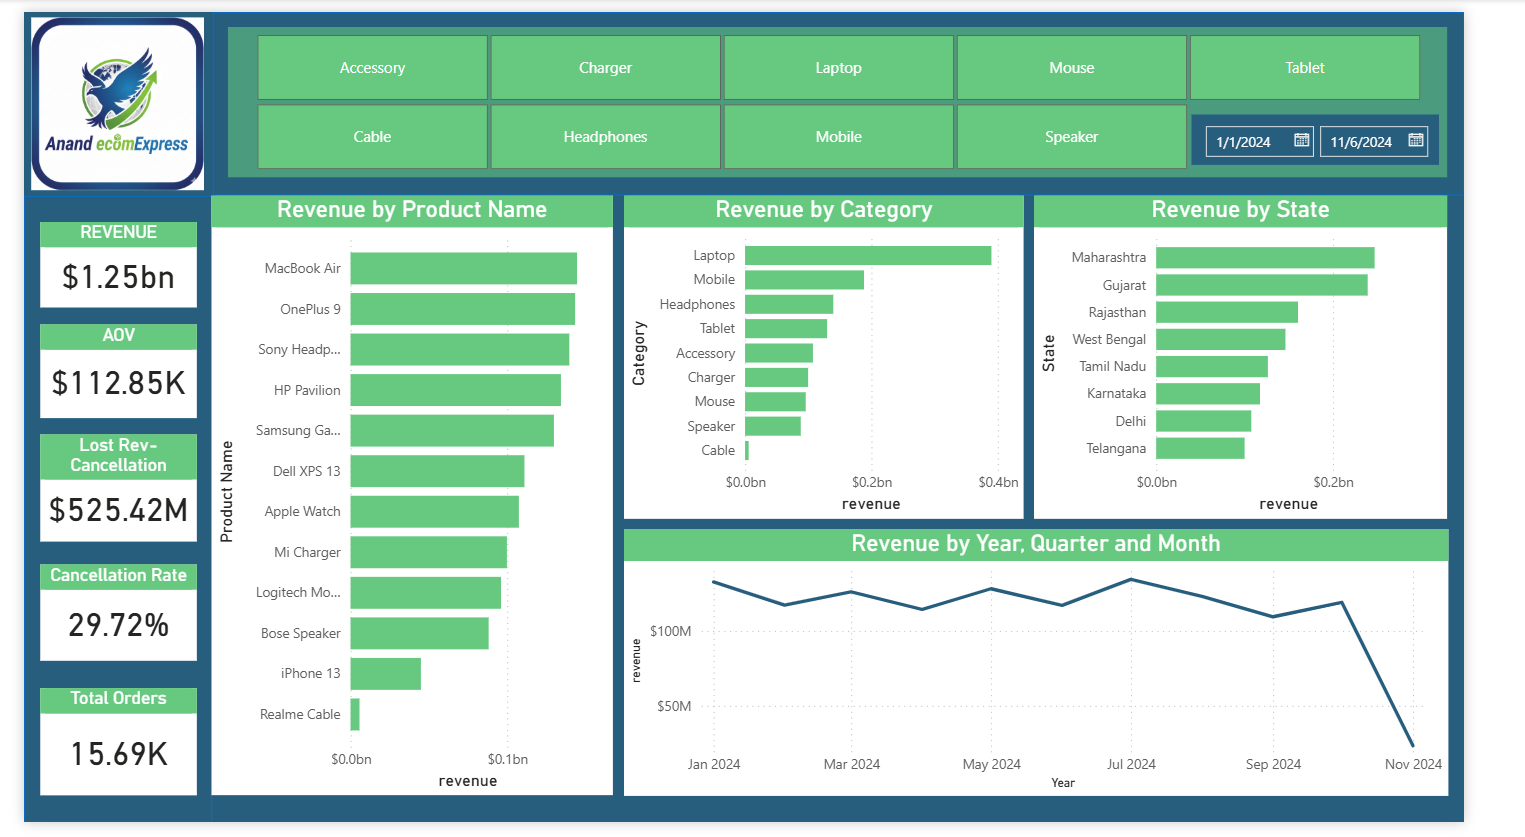

Layout of this report page (visuals, bound fields, positions):
{"tool":"powerbi","page":{"name":"Page 1","canvas":[1280,720],"ordinal":0},"visuals":[{"type":"shape","box":[167.4,0,1112.6,163.2],"z":0},{"type":"image","box":[0,0,166.9,163.3],"z":1000},{"type":"shape","box":[0,163.2,167.4,557],"z":2000},{"type":"barChart","title":"Revenue by Product Name","fields":{"Y":["Table.revenue"],"Category":["Products.Product Name"]},"box":[166.9,163.3,356.6,533.1],"z":3000},{"type":"barChart","title":"Revenue by Category","fields":{"Y":["Table.revenue"],"Category":["Products.Category"]},"box":[533.1,163.3,355.4,287],"z":4000},{"type":"lineChart","title":"Revenue by Year, Quarter and Month","fields":{"Y":["Table.revenue"],"Category":["Orders.Date and time of purchase.Variation.Date Hierarchy.Year","Orders.Date and time of purchase.Variation.Date Hierarchy.Quarter","Orders.Date and time of purchase.Variation.Date Hierarchy.Month","Orders.Date and time of purchase.Variation.Date Hierarchy.Day"]},"box":[533.1,459.9,732.5,236.5],"z":5000},{"type":"barChart","title":"Revenue by State","fields":{"Category":["Customers.State"],"Y":["Table.revenue"]},"box":[898.2,163.3,367.4,287],"z":6000},{"type":"slicer","fields":{"Values":["Products.Category"]},"box":[181.3,13.2,1084.3,133.3],"z":7000},{"type":"card","title":"REVENUE","fields":{"Values":["Table.revenue"]},"box":[14.4,186.1,139.3,75.6],"z":8000},{"type":"card","title":"AOV","fields":{"Values":["Table.AOV"]},"box":[14.4,277.4,139.3,82.9],"z":9000},{"type":"card","title":"Lost Rev- Cancellation","fields":{"Values":["Table.lost_rev_cancellation"]},"box":[14.4,375.8,139.3,94.9],"z":10000},{"type":"card","title":"Cancellation Rate","fields":{"Values":["Table.cancellation rate"]},"box":[14.4,491.1,139.3,85.3],"z":11000},{"type":"card","title":"Total Orders","fields":{"Values":["CountNonNull(Orders.OrderID)"]},"box":[14.4,601.6,139.3,94.9],"z":12000},{"type":"slicer","fields":{"Values":["Orders.Date and time of purchase"]},"box":[1037.4,91.3,219.7,44.4],"z":13000}]}

Visuals, with their boxes in screenshot pixels (x1, y1, x2, y2), scaled from the page's 1280x720 canvas onto the 1525x837 screenshot:
shape: {"left": 199, "top": 0, "right": 1524, "bottom": 190}
image: {"left": 0, "top": 0, "right": 199, "bottom": 190}
shape: {"left": 0, "top": 190, "right": 199, "bottom": 836}
"Revenue by Product Name" barChart: {"left": 199, "top": 190, "right": 624, "bottom": 810}
"Revenue by Category" barChart: {"left": 635, "top": 190, "right": 1059, "bottom": 523}
"Revenue by Year, Quarter and Month" lineChart: {"left": 635, "top": 535, "right": 1508, "bottom": 810}
"Revenue by State" barChart: {"left": 1070, "top": 190, "right": 1508, "bottom": 523}
slicer - Products.Category: {"left": 216, "top": 15, "right": 1508, "bottom": 170}
"REVENUE" card: {"left": 17, "top": 216, "right": 183, "bottom": 304}
"AOV" card: {"left": 17, "top": 322, "right": 183, "bottom": 419}
"Lost Rev- Cancellation" card: {"left": 17, "top": 437, "right": 183, "bottom": 547}
"Cancellation Rate" card: {"left": 17, "top": 571, "right": 183, "bottom": 670}
"Total Orders" card: {"left": 17, "top": 699, "right": 183, "bottom": 810}
slicer - Orders.Date and time of purchase: {"left": 1236, "top": 106, "right": 1498, "bottom": 158}
